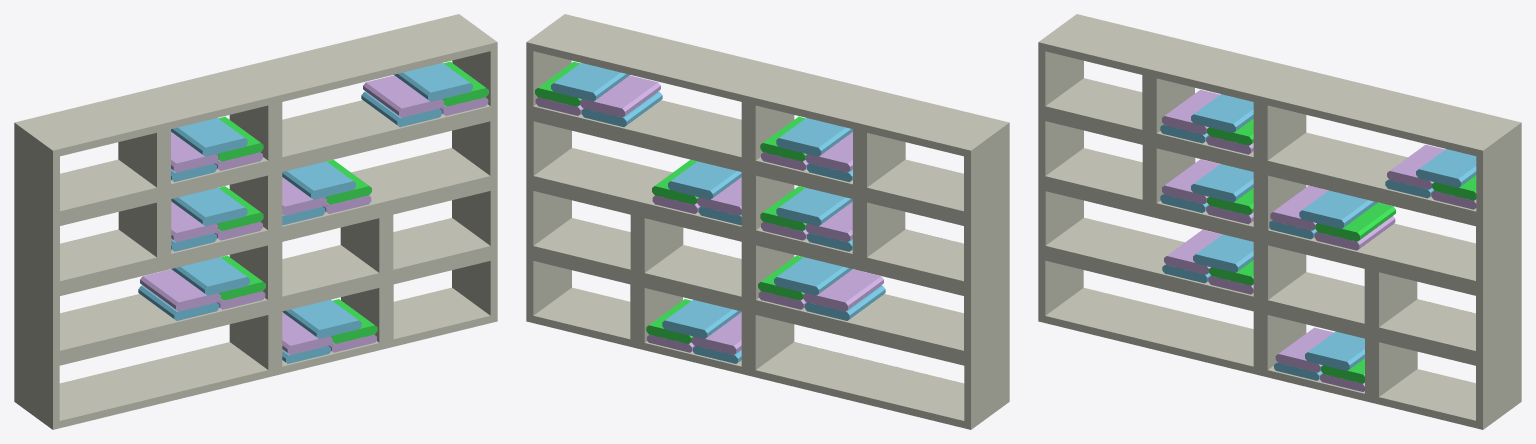
Rendered from RegalWC.fbx.
3 views of the same model, side by side, from view 1: azimuth 30°, elevation 25°; view 2: azimuth 150°, elevation 25°; view 3: azimuth 330°, elevation 25° (orthographic).
Visible parts, largest first — view 1: Cube.002; view 2: Cube.002; view 3: Cube.002.
Part boxes in pixels (x1,y1,x2,y2): Cube.002: [14, 14, 497, 429]; Cube.002: [526, 14, 1009, 429]; Cube.002: [1038, 14, 1521, 429].
Bounding box in the file's own units: 200 × 120 × 30.
